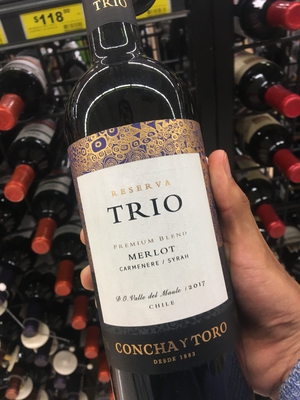trio merlot: (57, 25, 247, 394)
